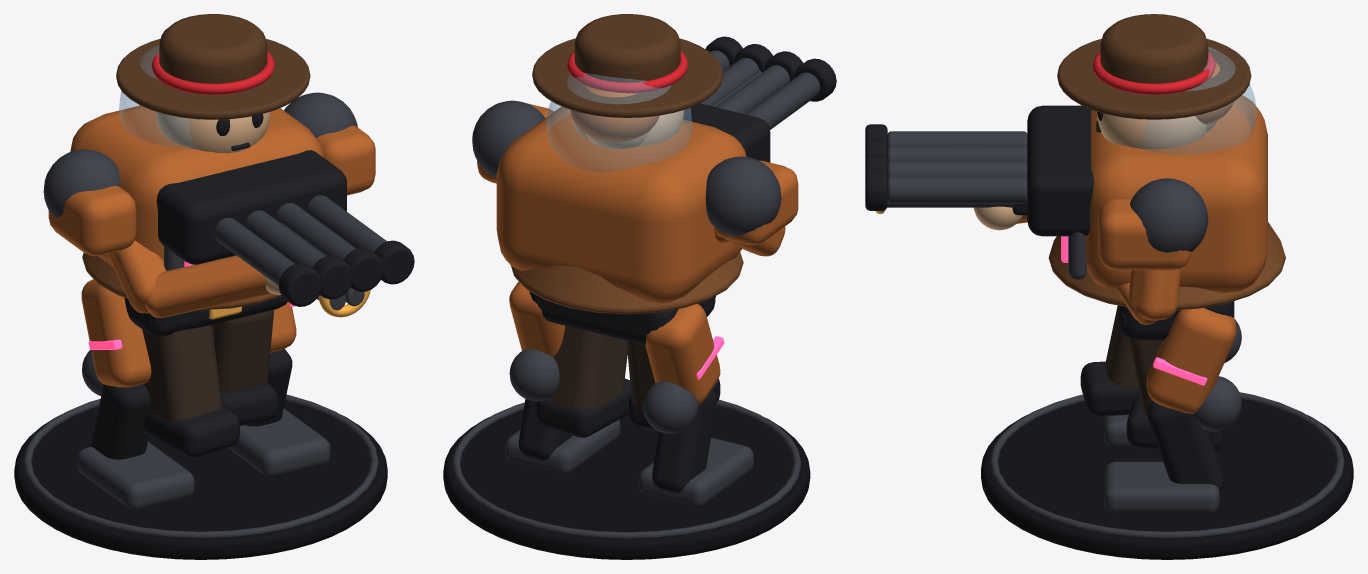
File: hagl.glb
3 views of the same model, side by side, from view 1: azimuth 30°, elevation 25°; view 2: azimuth 150°, elevation 25°; view 3: azimuth 270°, elevation 25° (orthographic).
Parts seen in each view (by area): view 1: fod_net, vaaben5_net, hoved_net, benV5_net, op4.003_net, skuldre5_net, benV_net, skuldre_net, benH5_net, benH_net, hoved5_net, op1_net (+2 smaller); view 2: op4.003_net, fod_net, benV5_net, hoved_net, skuldre5_net, vaaben5_net, hoved5_net, benH5_net, benH_net, op2_net, benV_net, op1_net (+1 smaller); view 3: fod_net, op4.003_net, vaaben5_net, benH5_net, hoved_net, skuldre5_net, hoved5_net, op2_net, skuldre_net, benV_net, benH_net, op1_net (+2 smaller).
Part boxes in pixels (<box>): fod_net: <box>14,394,387,559</box>; vaaben5_net: <box>156,150,414,306</box>; hoved_net: <box>116,14,310,153</box>; benV5_net: <box>77,279,194,508</box>; op4.003_net: <box>70,105,324,336</box>; skuldre5_net: <box>43,92,375,256</box>; benV_net: <box>142,325,239,457</box>; skuldre_net: <box>107,240,281,317</box>; benH5_net: <box>227,302,330,475</box>; benH_net: <box>212,310,277,425</box>; hoved5_net: <box>119,44,198,149</box>; op1_net: <box>151,51,274,94</box>; op4.003_net: <box>496,106,746,344</box>; fod_net: <box>443,399,810,559</box>; benV5_net: <box>638,304,753,505</box>; hoved_net: <box>532,14,722,146</box>; skuldre5_net: <box>472,100,798,245</box>; vaaben5_net: <box>683,36,836,162</box>; hoved5_net: <box>546,73,692,172</box>; benH5_net: <box>505,281,620,473</box>; benH_net: <box>536,326,631,437</box>; op2_net: <box>511,252,743,314</box>; benV_net: <box>626,340,720,431</box>; op1_net: <box>567,51,687,93</box>; fod_net: <box>981,392,1353,559</box>; op4.003_net: <box>1061,95,1267,340</box>; vaaben5_net: <box>865,105,1093,236</box>; benH5_net: <box>1104,308,1241,512</box>; hoved_net: <box>1057,14,1251,149</box>; skuldre5_net: <box>1098,178,1208,270</box>; hoved5_net: <box>1138,47,1256,154</box>; op2_net: <box>1048,222,1285,309</box>; skuldre_net: <box>974,206,1180,324</box>; benV_net: <box>1080,305,1140,416</box>; benH_net: <box>1126,338,1225,449</box>; op1_net: <box>1092,51,1215,94</box>.
Bounding box in the file's own units: 2 × 2.69 × 2.62.
